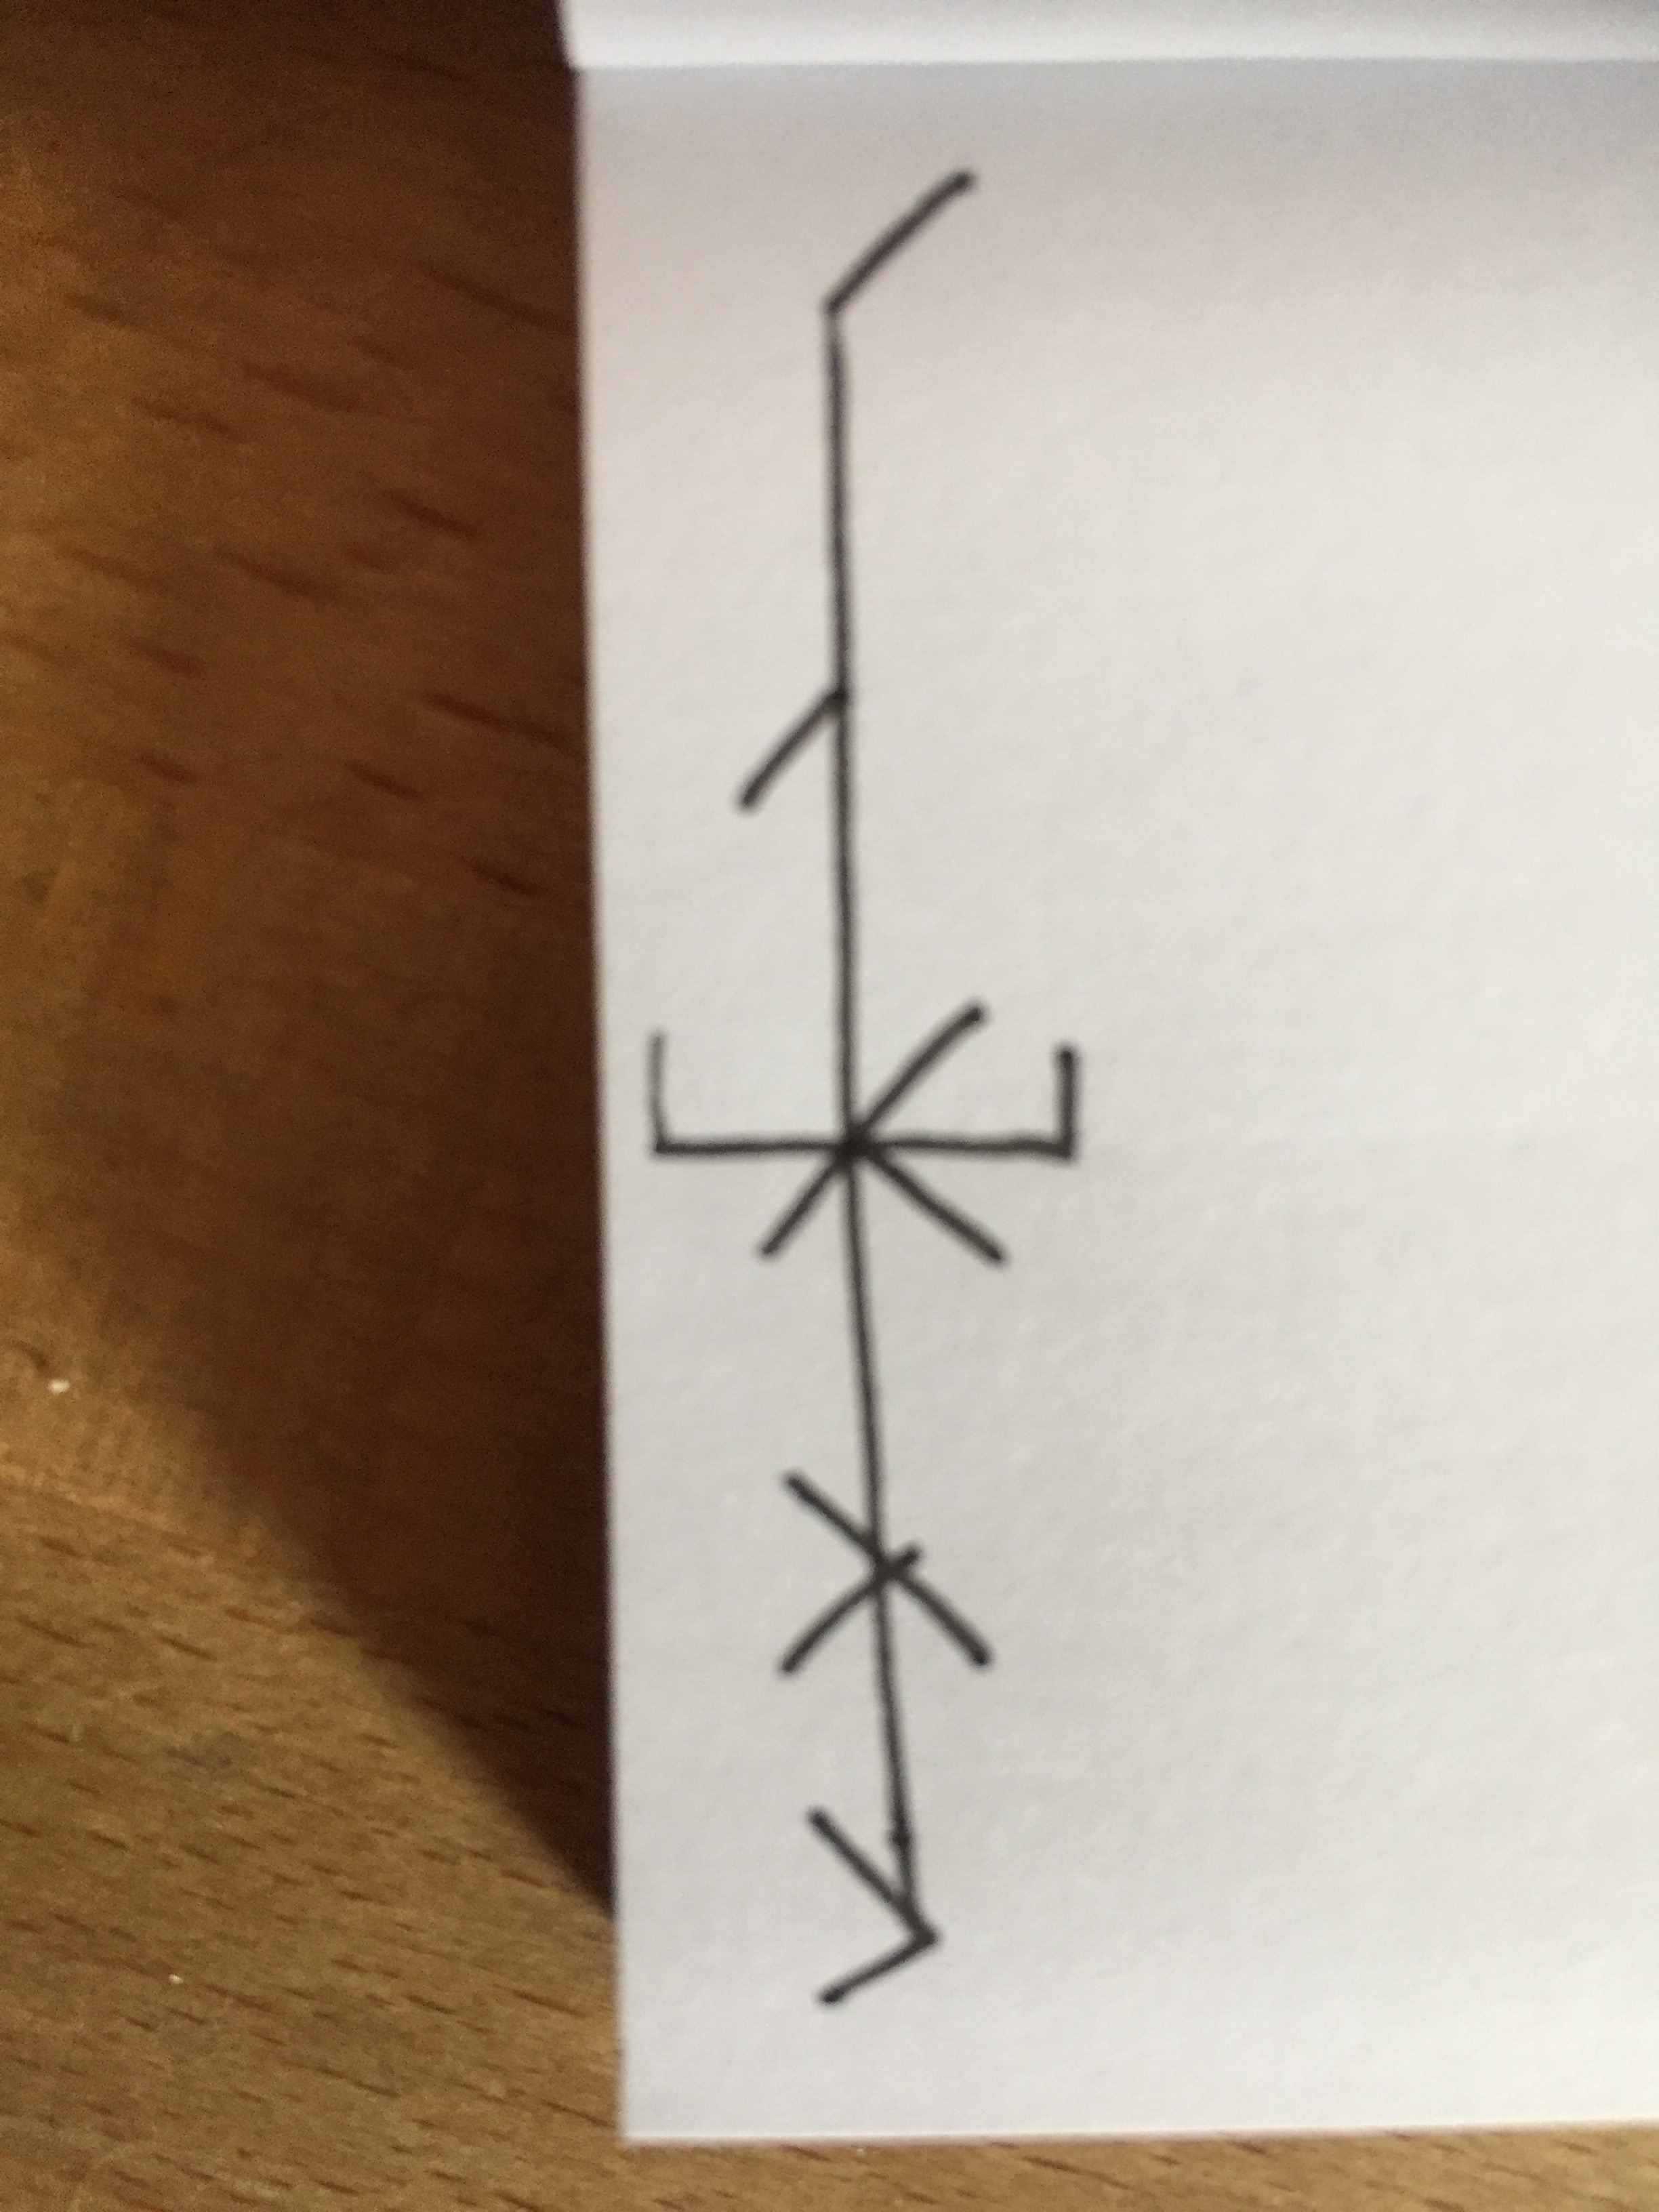Bar: (728, 169, 1009, 2006)
Barcode: (645, 171, 1079, 2005)
End: (957, 1040, 1079, 1167)
Start: (643, 1029, 833, 1162)
